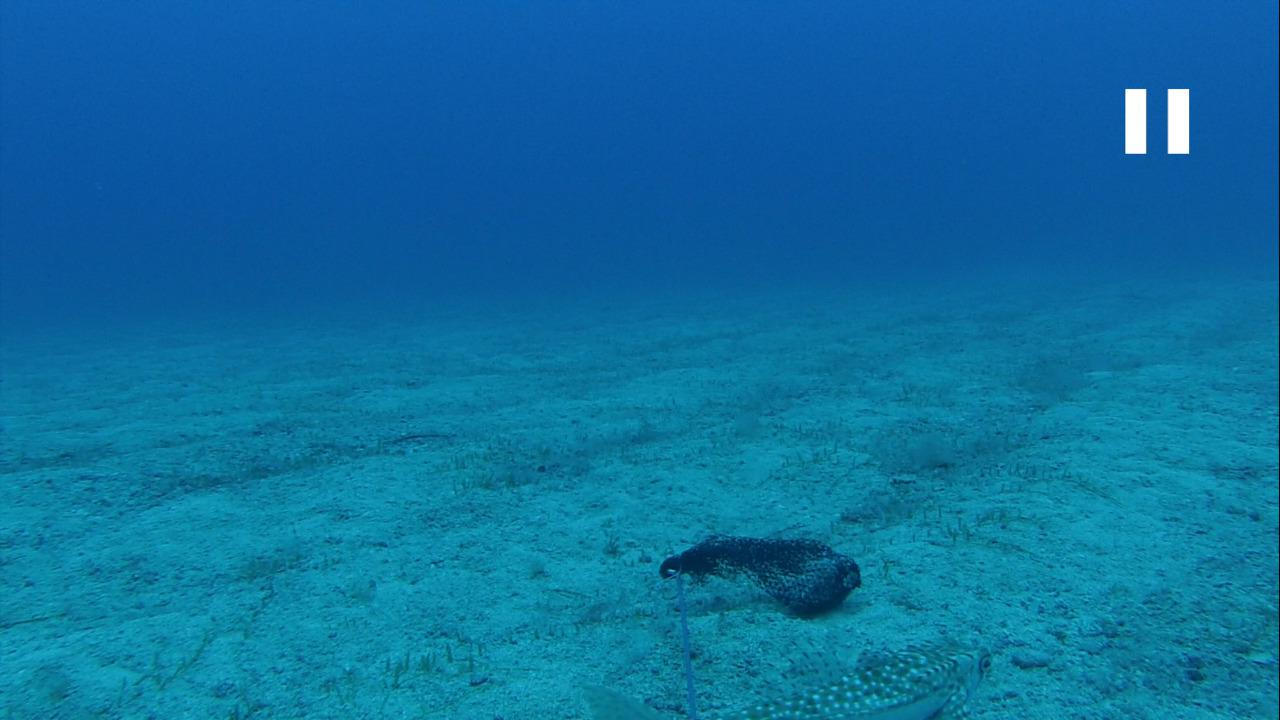dactylopterus: (708, 631, 999, 712)
